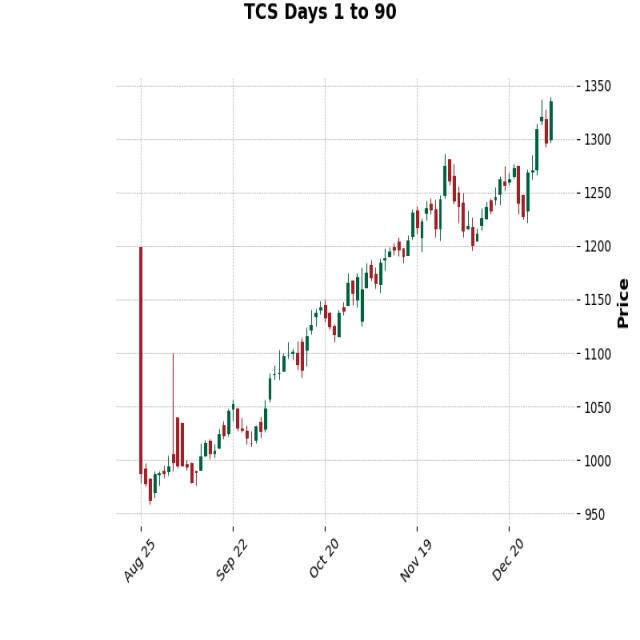Triple Bottom Reversal: (138, 328, 301, 507)
